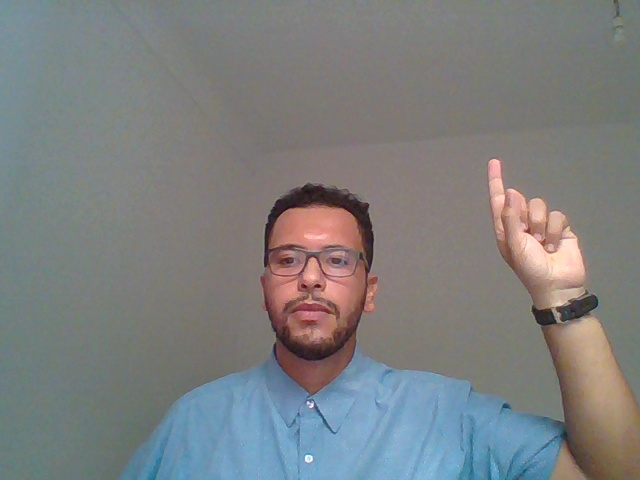handup: (449, 141, 617, 450)
